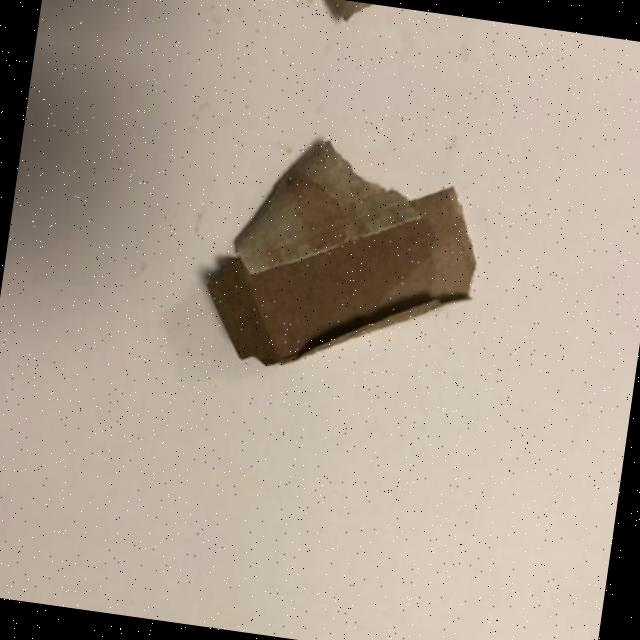paper: (206, 112, 518, 421), (257, 0, 536, 61)
